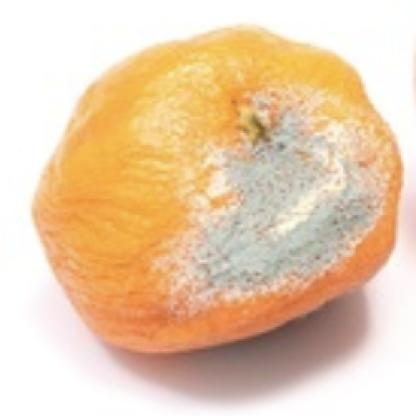rotten: (35, 25, 404, 358)
